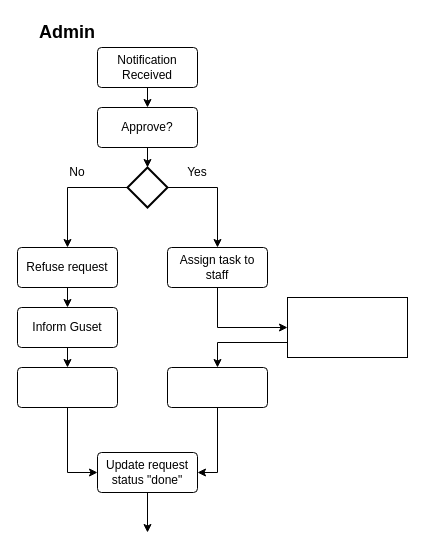
The diagram is 425 pixels wide and 558 high, and some of its shapes have lost their labels. Each missing label, with the centre of its shape:
Request guest feedback: [217,387]
Staff Section: [347,327]
Update as "Refused": [67,387]
